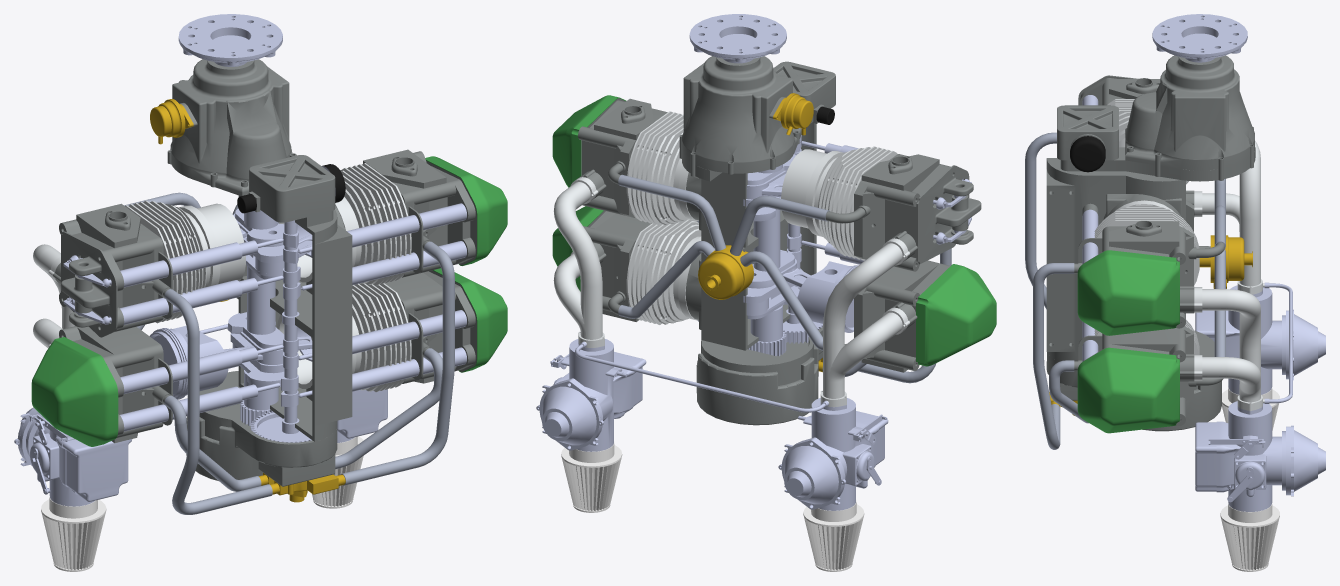
The model's file is uav.glb.
The picture shows the model from 3 angles, left to right: view 1: azimuth 30°, elevation 25°; view 2: azimuth 150°, elevation 25°; view 3: azimuth 270°, elevation 25°; orthographic projection. The views are drawn at different scales.
Parts seen in each view (by area): view 1: cylinder head.001, engine front1, water pipes 2, cylinder case right, cylinder head, cylinder head case, alternater, cylinder.002, cam shaft end, cylinder.003, cylinder.001, cam shaft (+25 smaller); view 2: cylinder head.001, engine front1, cylinder head, alternater, cylinder case right, carb case, water pipes, cylinder.002, fuel pipe left, cylinder head case, fuel pipe right, cylinder.001 (+21 smaller); view 3: cylinder case right, engine front1, carb case, cylinder head case.002, cylinder head case.001, cylinder head, water pipes 2, fuel pipe right, cam shaft end, prop gear, fuel pipe left, air filter.001 (+15 smaller).
Boxes of the visible parts, bbox=[...] form: cylinder head.001: bbox=[53, 203, 172, 443]; engine front1: bbox=[167, 59, 296, 195]; water pipes 2: bbox=[164, 241, 454, 514]; cylinder case right: bbox=[236, 195, 352, 441]; cylinder head: bbox=[340, 149, 476, 383]; cylinder head case: bbox=[31, 337, 118, 446]; alternater: bbox=[186, 371, 337, 486]; cylinder.002: bbox=[125, 200, 245, 323]; cam shaft end: bbox=[237, 155, 345, 222]; cylinder.003: bbox=[278, 163, 411, 285]; cylinder.001: bbox=[277, 283, 411, 392]; cam shaft: bbox=[250, 220, 311, 442]; cylinder head.001: bbox=[825, 154, 981, 372]; engine front1: bbox=[679, 56, 801, 174]; cylinder head: bbox=[578, 98, 667, 321]; alternater: bbox=[696, 327, 822, 425]; cylinder case right: bbox=[679, 122, 816, 350]; carb case: bbox=[554, 339, 877, 510]; water pipes: bbox=[618, 174, 830, 350]; cylinder.002: bbox=[781, 146, 897, 260]; fuel pipe left: bbox=[820, 238, 909, 407]; cylinder head case: bbox=[916, 264, 996, 366]; fuel pipe right: bbox=[553, 177, 604, 347]; cylinder.001: bbox=[626, 219, 701, 324]; cylinder case right: bbox=[1046, 147, 1255, 361]; engine front1: bbox=[1125, 55, 1254, 170]; carb case: bbox=[1219, 285, 1290, 511]; cylinder head case.002: bbox=[1077, 250, 1179, 335]; cylinder head case.001: bbox=[1077, 347, 1179, 433]; cylinder head: bbox=[1074, 220, 1224, 425]; water pipes 2: bbox=[1025, 132, 1088, 449]; fuel pipe right: bbox=[1194, 287, 1264, 411]; cam shaft end: bbox=[1057, 105, 1118, 172]; prop gear: bbox=[1152, 14, 1247, 62]; fuel pipe left: bbox=[1194, 141, 1264, 294]; air filter.001: bbox=[1220, 502, 1279, 571].
Size of the model in its own units: 9.24 by 10.14 by 5.86.
